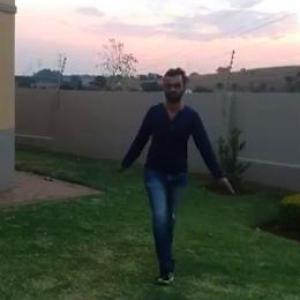land: (120, 69, 225, 288)
